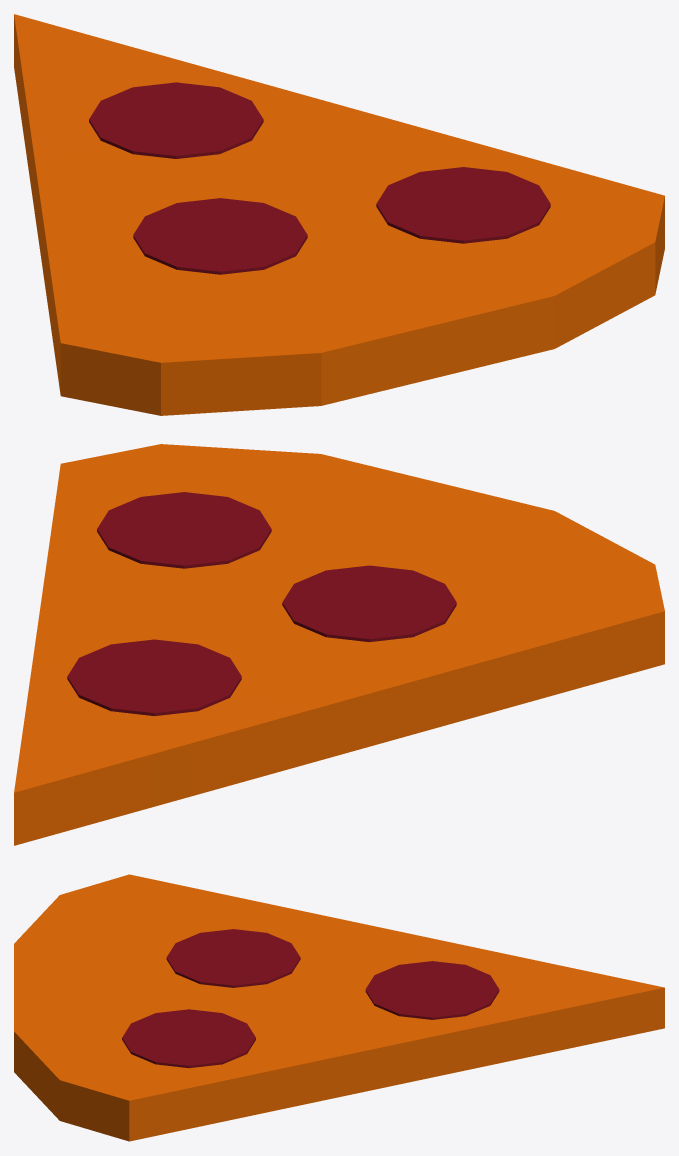
File: pizza.fbx
3 views of the same model, one above another, from view 1: azimuth 30°, elevation 25°; view 2: azimuth 150°, elevation 25°; view 3: azimuth 270°, elevation 25° (orthographic). The views are drawn at different scales.
Parts seen in each view (by area): view 1: pizza; view 2: pizza; view 3: pizza.
Boxes of the visible parts, bbox=[...] form: pizza: bbox=[14, 14, 664, 415]; pizza: bbox=[14, 444, 664, 845]; pizza: bbox=[14, 874, 664, 1141].
Bounding box in the file's own units: 0.4 × 0.0355 × 0.4862.
Materials: 1 (1 with a texture image).
